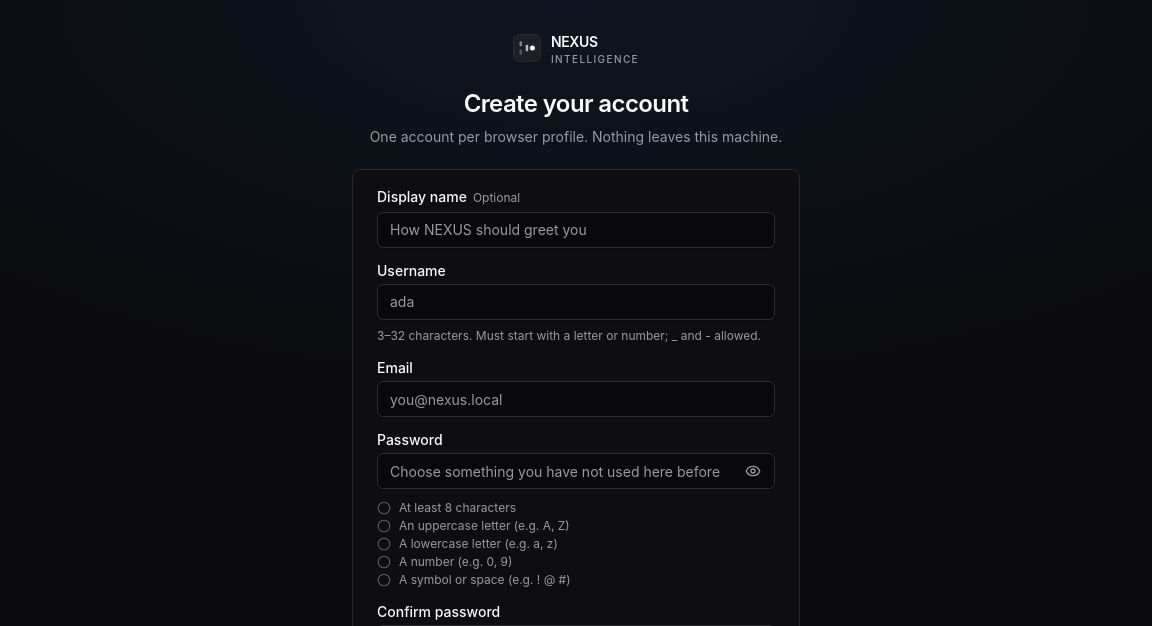
Test: RegisterPage › names the strength level in text and updates it as the value changes
Type "abc" into the password field labelled "Password" at (576, 471), box [377,453,775,489]
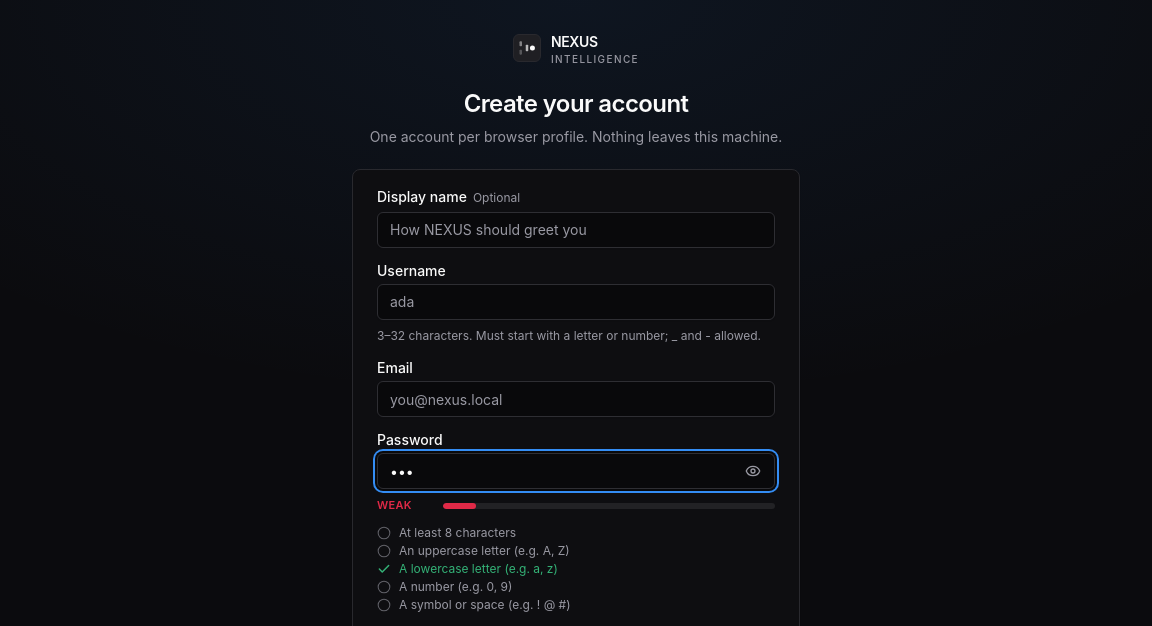
Check: the text "Weak" is shown, box [377,498,412,512]
Type "Passw0rd!" into the password field labelled "Password" at (576, 471), box [377,453,775,489]
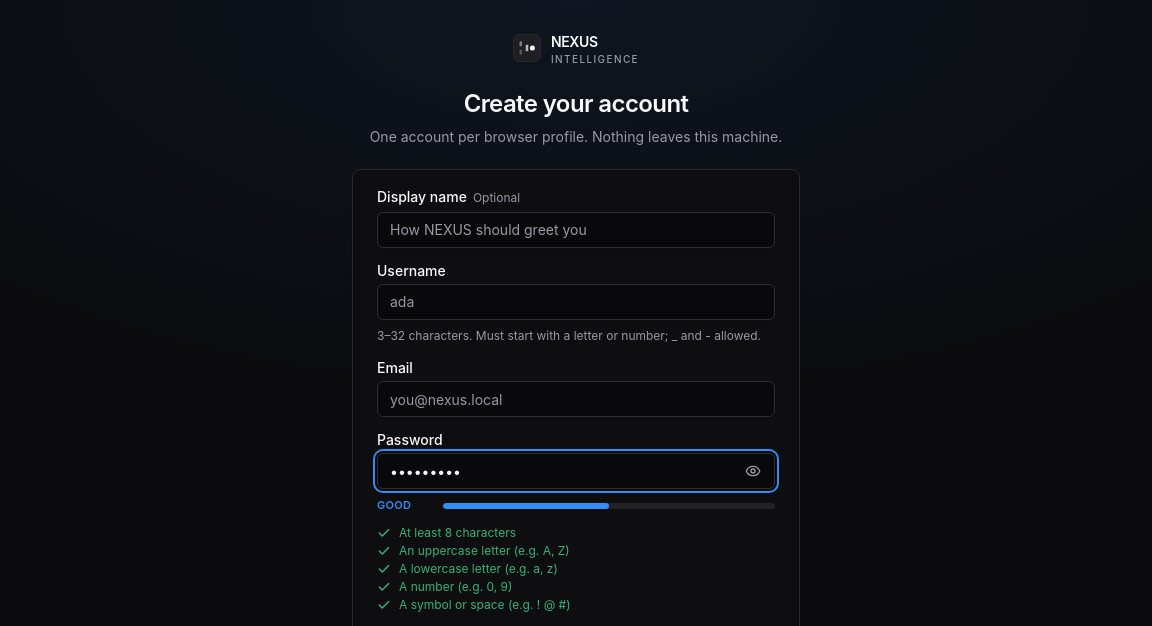
Check: the text "Good" is shown, box [377,498,411,512]
Type "Str0ng!passphrase!" into the password field labelled "Password" at (576, 471), box [377,453,775,489]
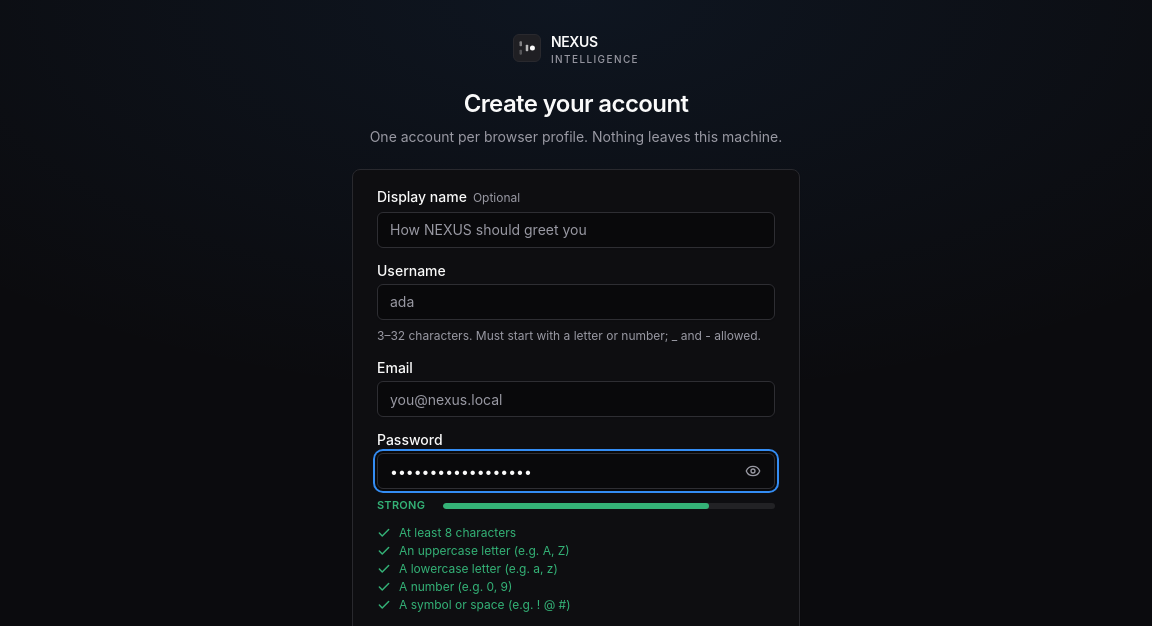
Check: the text "Strong" is shown, box [377,497,433,514]
